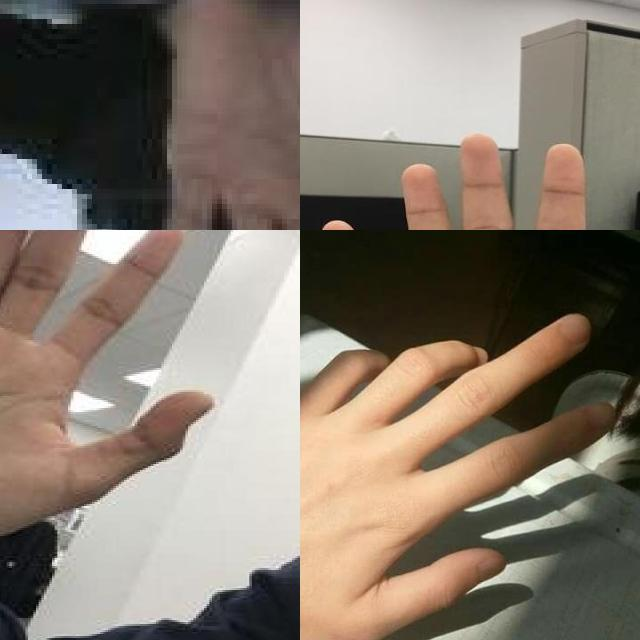hand: (300, 310, 618, 640), (0, 230, 217, 536), (147, 0, 300, 230), (316, 133, 640, 230)
